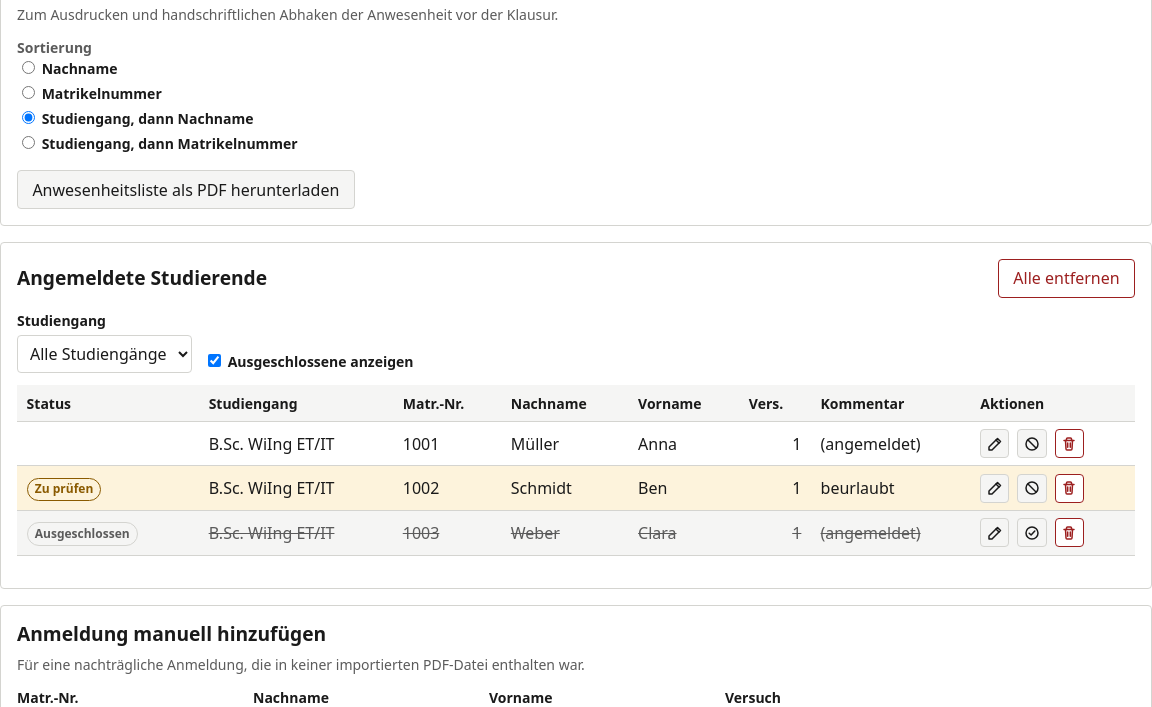
Scenario: RegistrationsPage — student list › hides excluded rows when the toggle is switched off
(page scrolled)
Expected: the row with test id "registration-row-3" is shown, [17,510,1135,555]
Click the checkbox labelled "Ausgeschlossene anzeigen" at [214, 361], box [208,354,221,368]
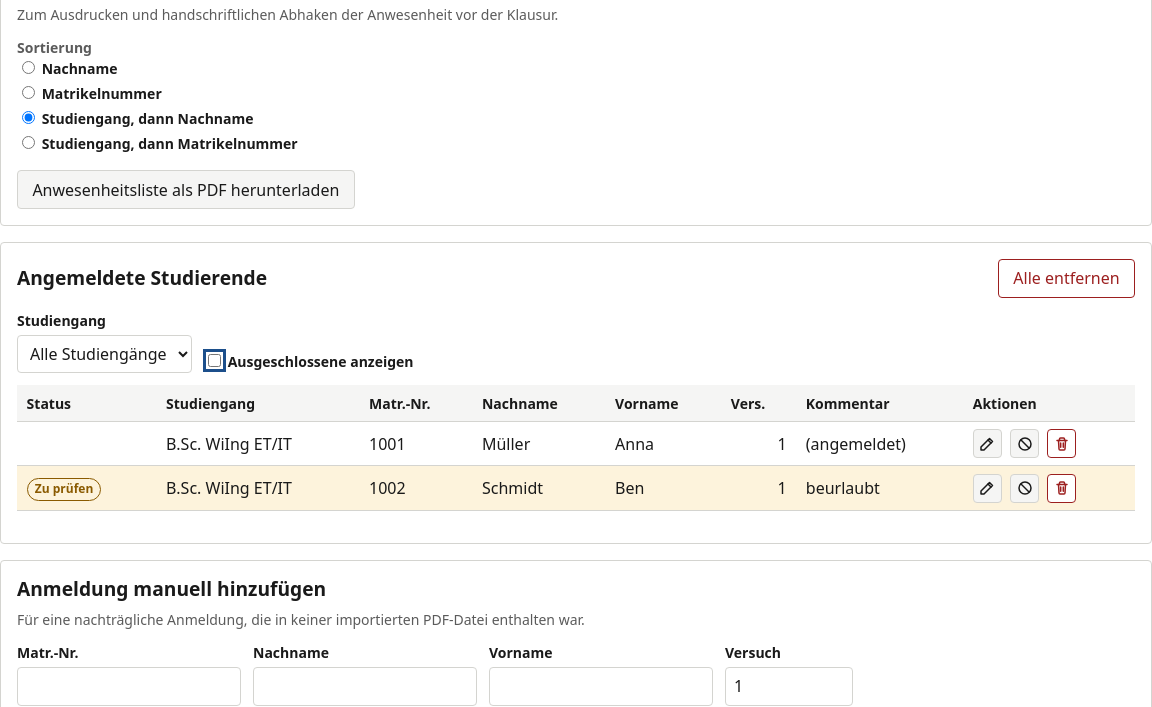
Expected: the row with test id "registration-row-1" is shown, [17,421,1135,466]
Expected: the row with test id "registration-row-3" is gone
